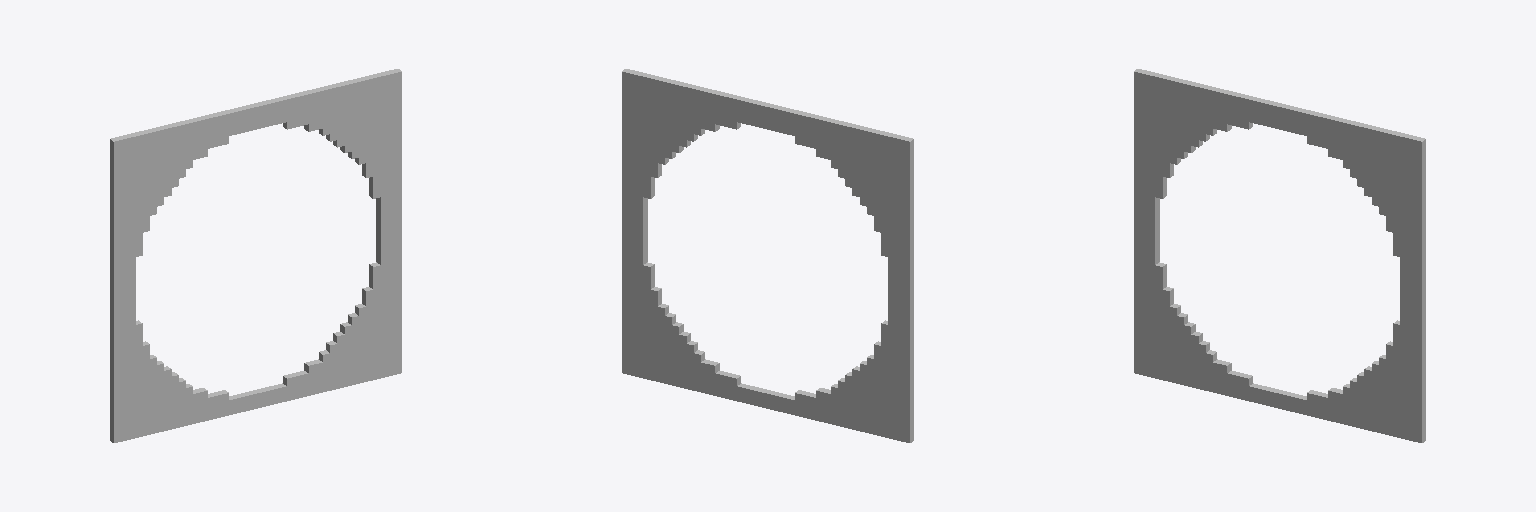
Rendered from Bab 5zna 7eta.obj.
The picture shows the model from 3 angles: view 1: azimuth 30°, elevation 25°; view 2: azimuth 150°, elevation 25°; view 3: azimuth 330°, elevation 25°; orthographic projection.
Parts seen in each view (by area): view 1: object 1; view 2: object 1; view 3: object 1.
Boxes of the visible parts, x1=… form: object 1: x1=110, y1=69, x2=401, y2=442; object 1: x1=622, y1=69, x2=913, y2=442; object 1: x1=1134, y1=69, x2=1425, y2=442.
Size of the model in its own units: 4 by 4 by 0.1.